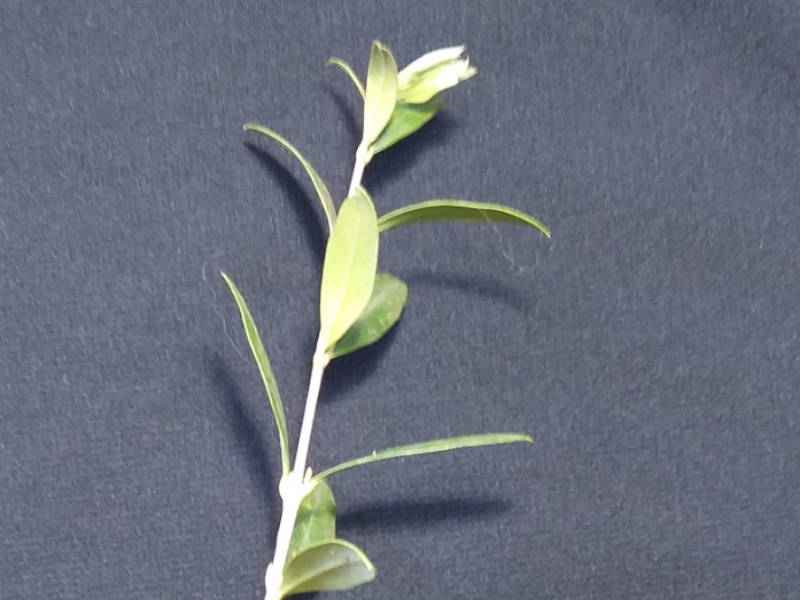yema: (300, 324, 353, 386), (268, 459, 324, 514), (345, 124, 393, 177), (244, 566, 305, 596)
